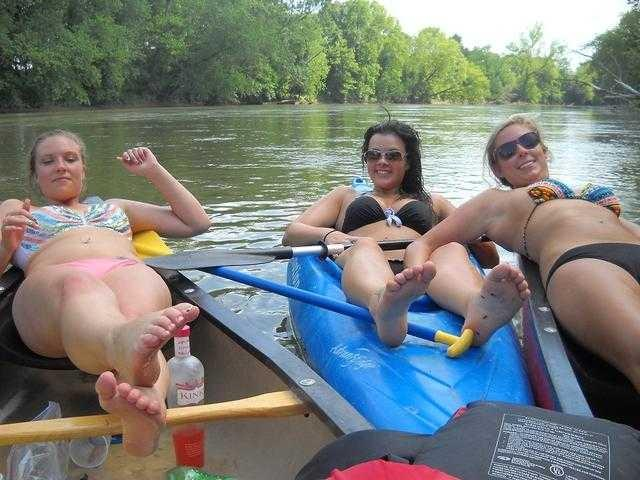kayak: (6, 217, 637, 456), (284, 241, 554, 436)
